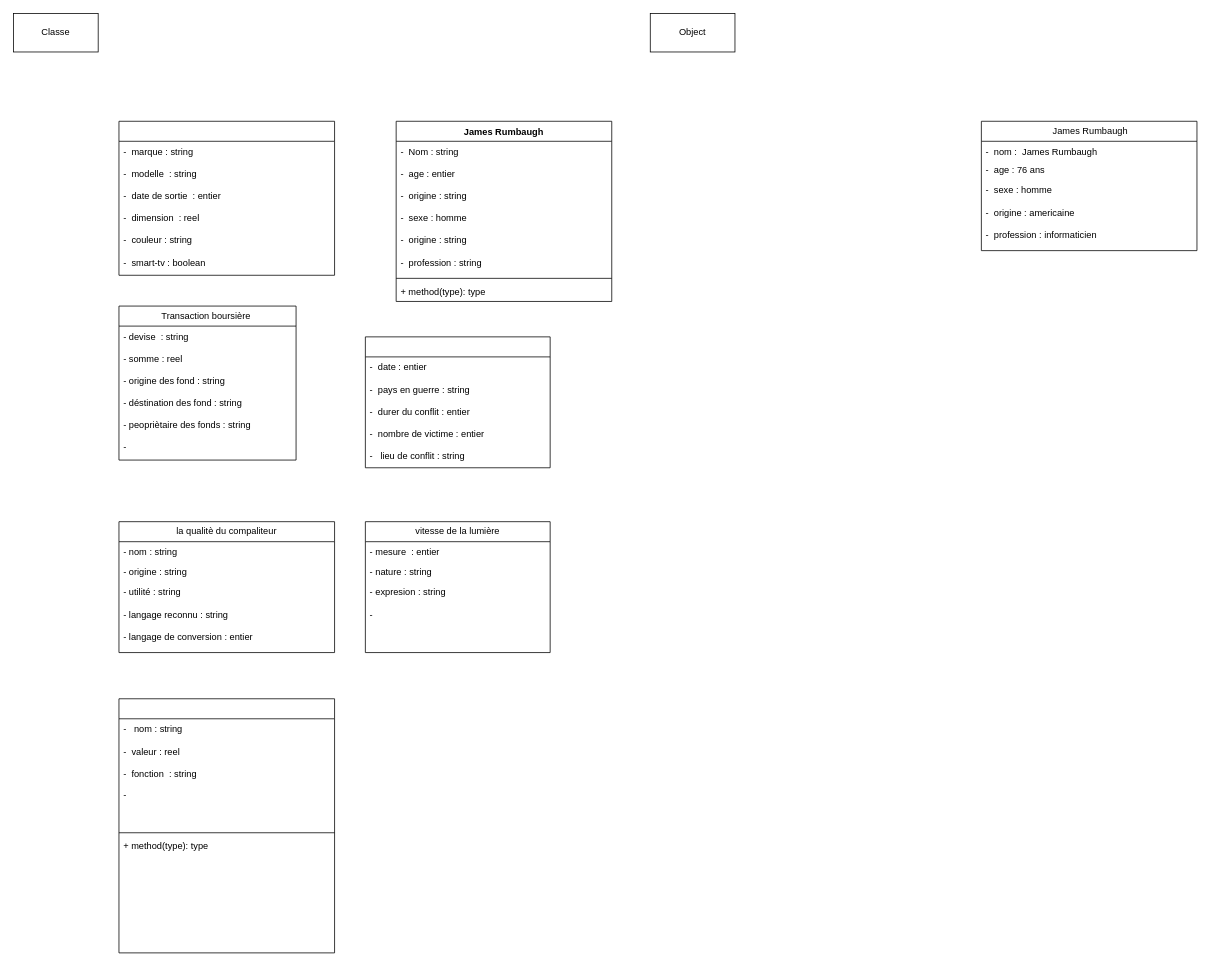
The diagram is 1210 pixels wide and 969 high, and some of its shapes have lost their labels. The box of each missing label's shape, as (x1, y1, x2, y2) in pixels:
Poste de télévision: (118, 121, 335, 275)
Racine carré de 4: (118, 698, 335, 953)
Seconde guerre mondiale: (365, 336, 550, 468)
